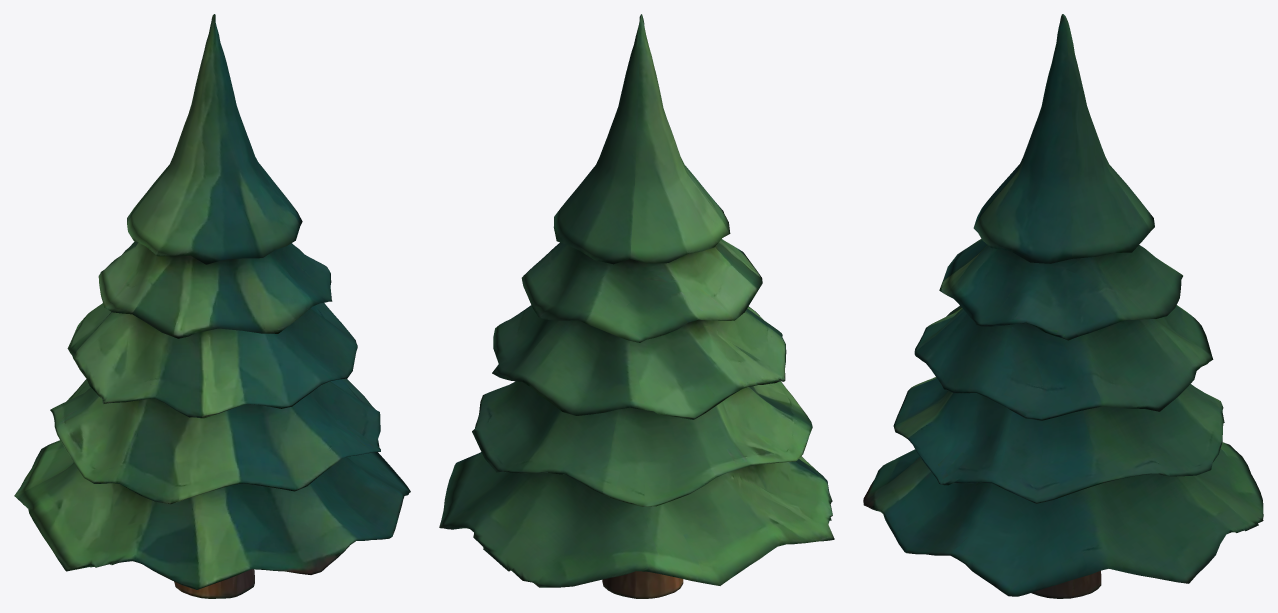
File: pinheiro.compressed.glb
3 views of the same model, side by side, from view 1: azimuth 30°, elevation 25°; view 2: azimuth 150°, elevation 25°; view 3: azimuth 270°, elevation 25° (orthographic).
Bounding box in the file's own units: 1.24 × 1.98 × 1.26.
Materials: 1 (1 with a texture image).
